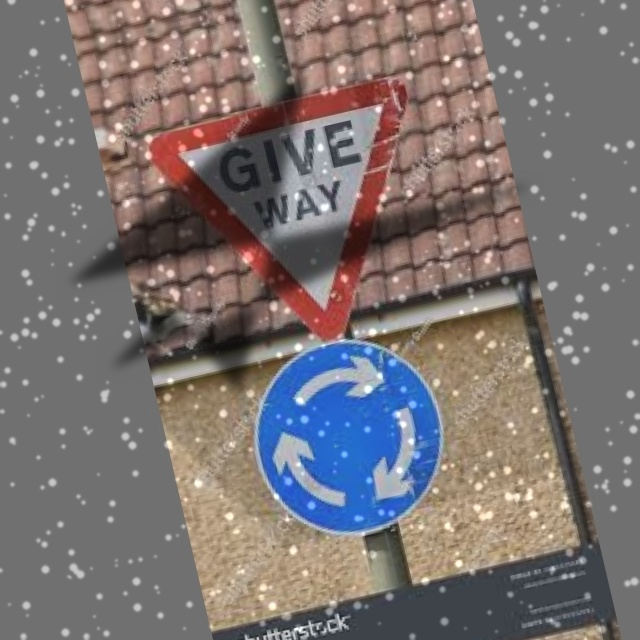Give_Way: (152, 74, 458, 372)
